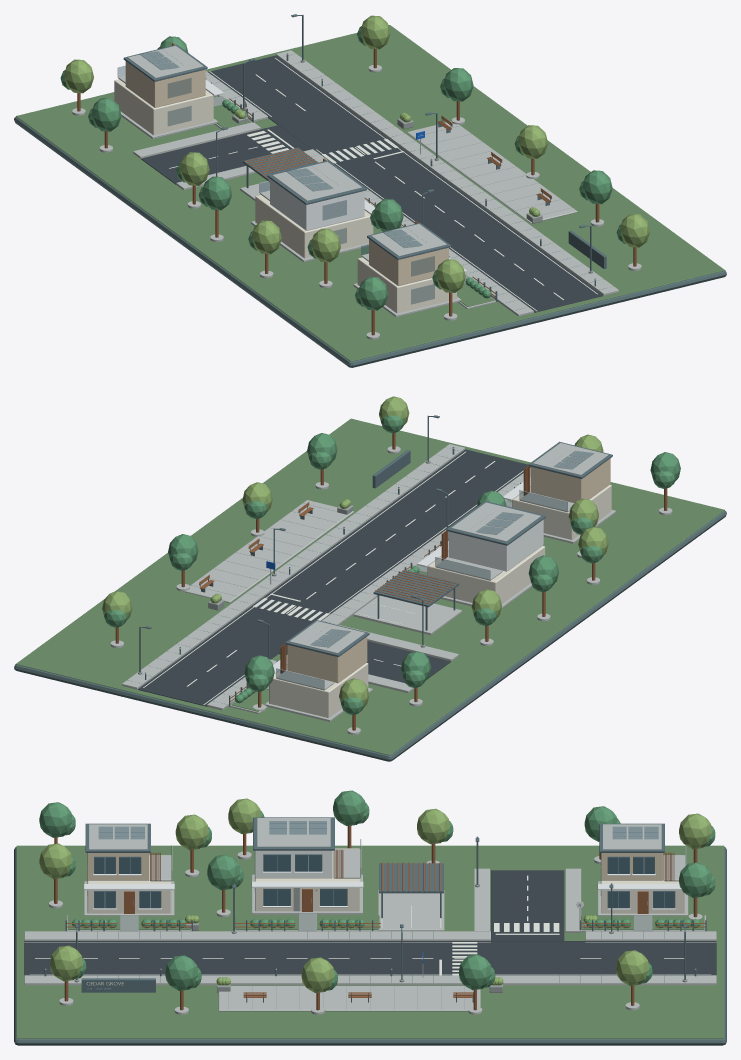
File: neighborhood.glb
3 renders of one model, top to bottom at view 1: azimuth 30°, elevation 25°; view 2: azimuth 150°, elevation 25°; view 3: azimuth 270°, elevation 25°, orthographic. The views are drawn at different scales.
Parts seen in each view (by area): view 1: Environment_Grass, Roads_Asphalt, Roads_Concrete, Houses_Ivory, Props_Leaf_Light, Props_Leaf, Houses_Concrete, Environment_Concrete, Environment_Foundation, Houses_Warm_Wall, Houses_Glass, Props_Roof (+6 smaller); view 2: Environment_Grass, Roads_Asphalt, Roads_Concrete, Props_Leaf, Houses_Concrete, Houses_Ivory, Environment_Concrete, Environment_Foundation, Props_Leaf_Light, Houses_Warm_Wall, Props_Roof, Props_Concrete (+6 smaller); view 3: Environment_Grass, Roads_Asphalt, Roads_Concrete, Props_Leaf, Houses_Concrete, Props_Leaf_Light, Houses_Roof, Environment_Concrete, Environment_Foundation, Houses_Glass, Houses_Ivory, Props_Roof (+8 smaller).
Boxes of the visible parts, <box> form: Environment_Grass: <box>16,25,724,361</box>; Roads_Asphalt: <box>141,55,602,312</box>; Roads_Concrete: <box>133,50,618,316</box>; Houses_Ivory: <box>114,79,456,313</box>; Props_Leaf_Light: <box>64,15,649,292</box>; Props_Leaf: <box>60,26,625,310</box>; Houses_Concrete: <box>118,45,461,317</box>; Environment_Concrete: <box>214,96,577,309</box>; Environment_Foundation: <box>14,117,726,367</box>; Houses_Warm_Wall: <box>125,61,448,285</box>; Houses_Glass: <box>118,51,434,304</box>; Props_Roof: <box>205,14,606,301</box>; Environment_Grass: <box>16,418,724,755</box>; Roads_Asphalt: <box>138,449,530,706</box>; Roads_Concrete: <box>122,444,530,710</box>; Props_Leaf: <box>104,415,680,715</box>; Houses_Concrete: <box>265,443,615,721</box>; Houses_Ivory: <box>269,484,611,717</box>; Environment_Concrete: <box>183,500,509,713</box>; Environment_Foundation: <box>14,510,726,761</box>; Props_Leaf_Light: <box>102,396,608,708</box>; Houses_Warm_Wall: <box>287,458,610,683</box>; Props_Roof: <box>139,415,520,706</box>; Props_Concrete: <box>110,446,672,734</box>; Environment_Grass: <box>16,845,724,1038</box>; Roads_Asphalt: <box>24,870,716,975</box>; Roads_Concrete: <box>24,868,716,985</box>; Props_Leaf: <box>39,790,715,990</box>; Houses_Concrete: <box>84,818,688,915</box>; Props_Leaf_Light: <box>39,798,711,992</box>; Houses_Roof: <box>85,817,675,908</box>; Environment_Concrete: <box>66,915,705,1011</box>; Environment_Foundation: <box>14,847,726,1045</box>; Houses_Glass: <box>95,821,674,907</box>; Houses_Ivory: <box>87,848,684,913</box>; Props_Roof: <box>44,836,706,1002</box>.
Bounding box in the file's own units: 44 × 7.82 × 68.
